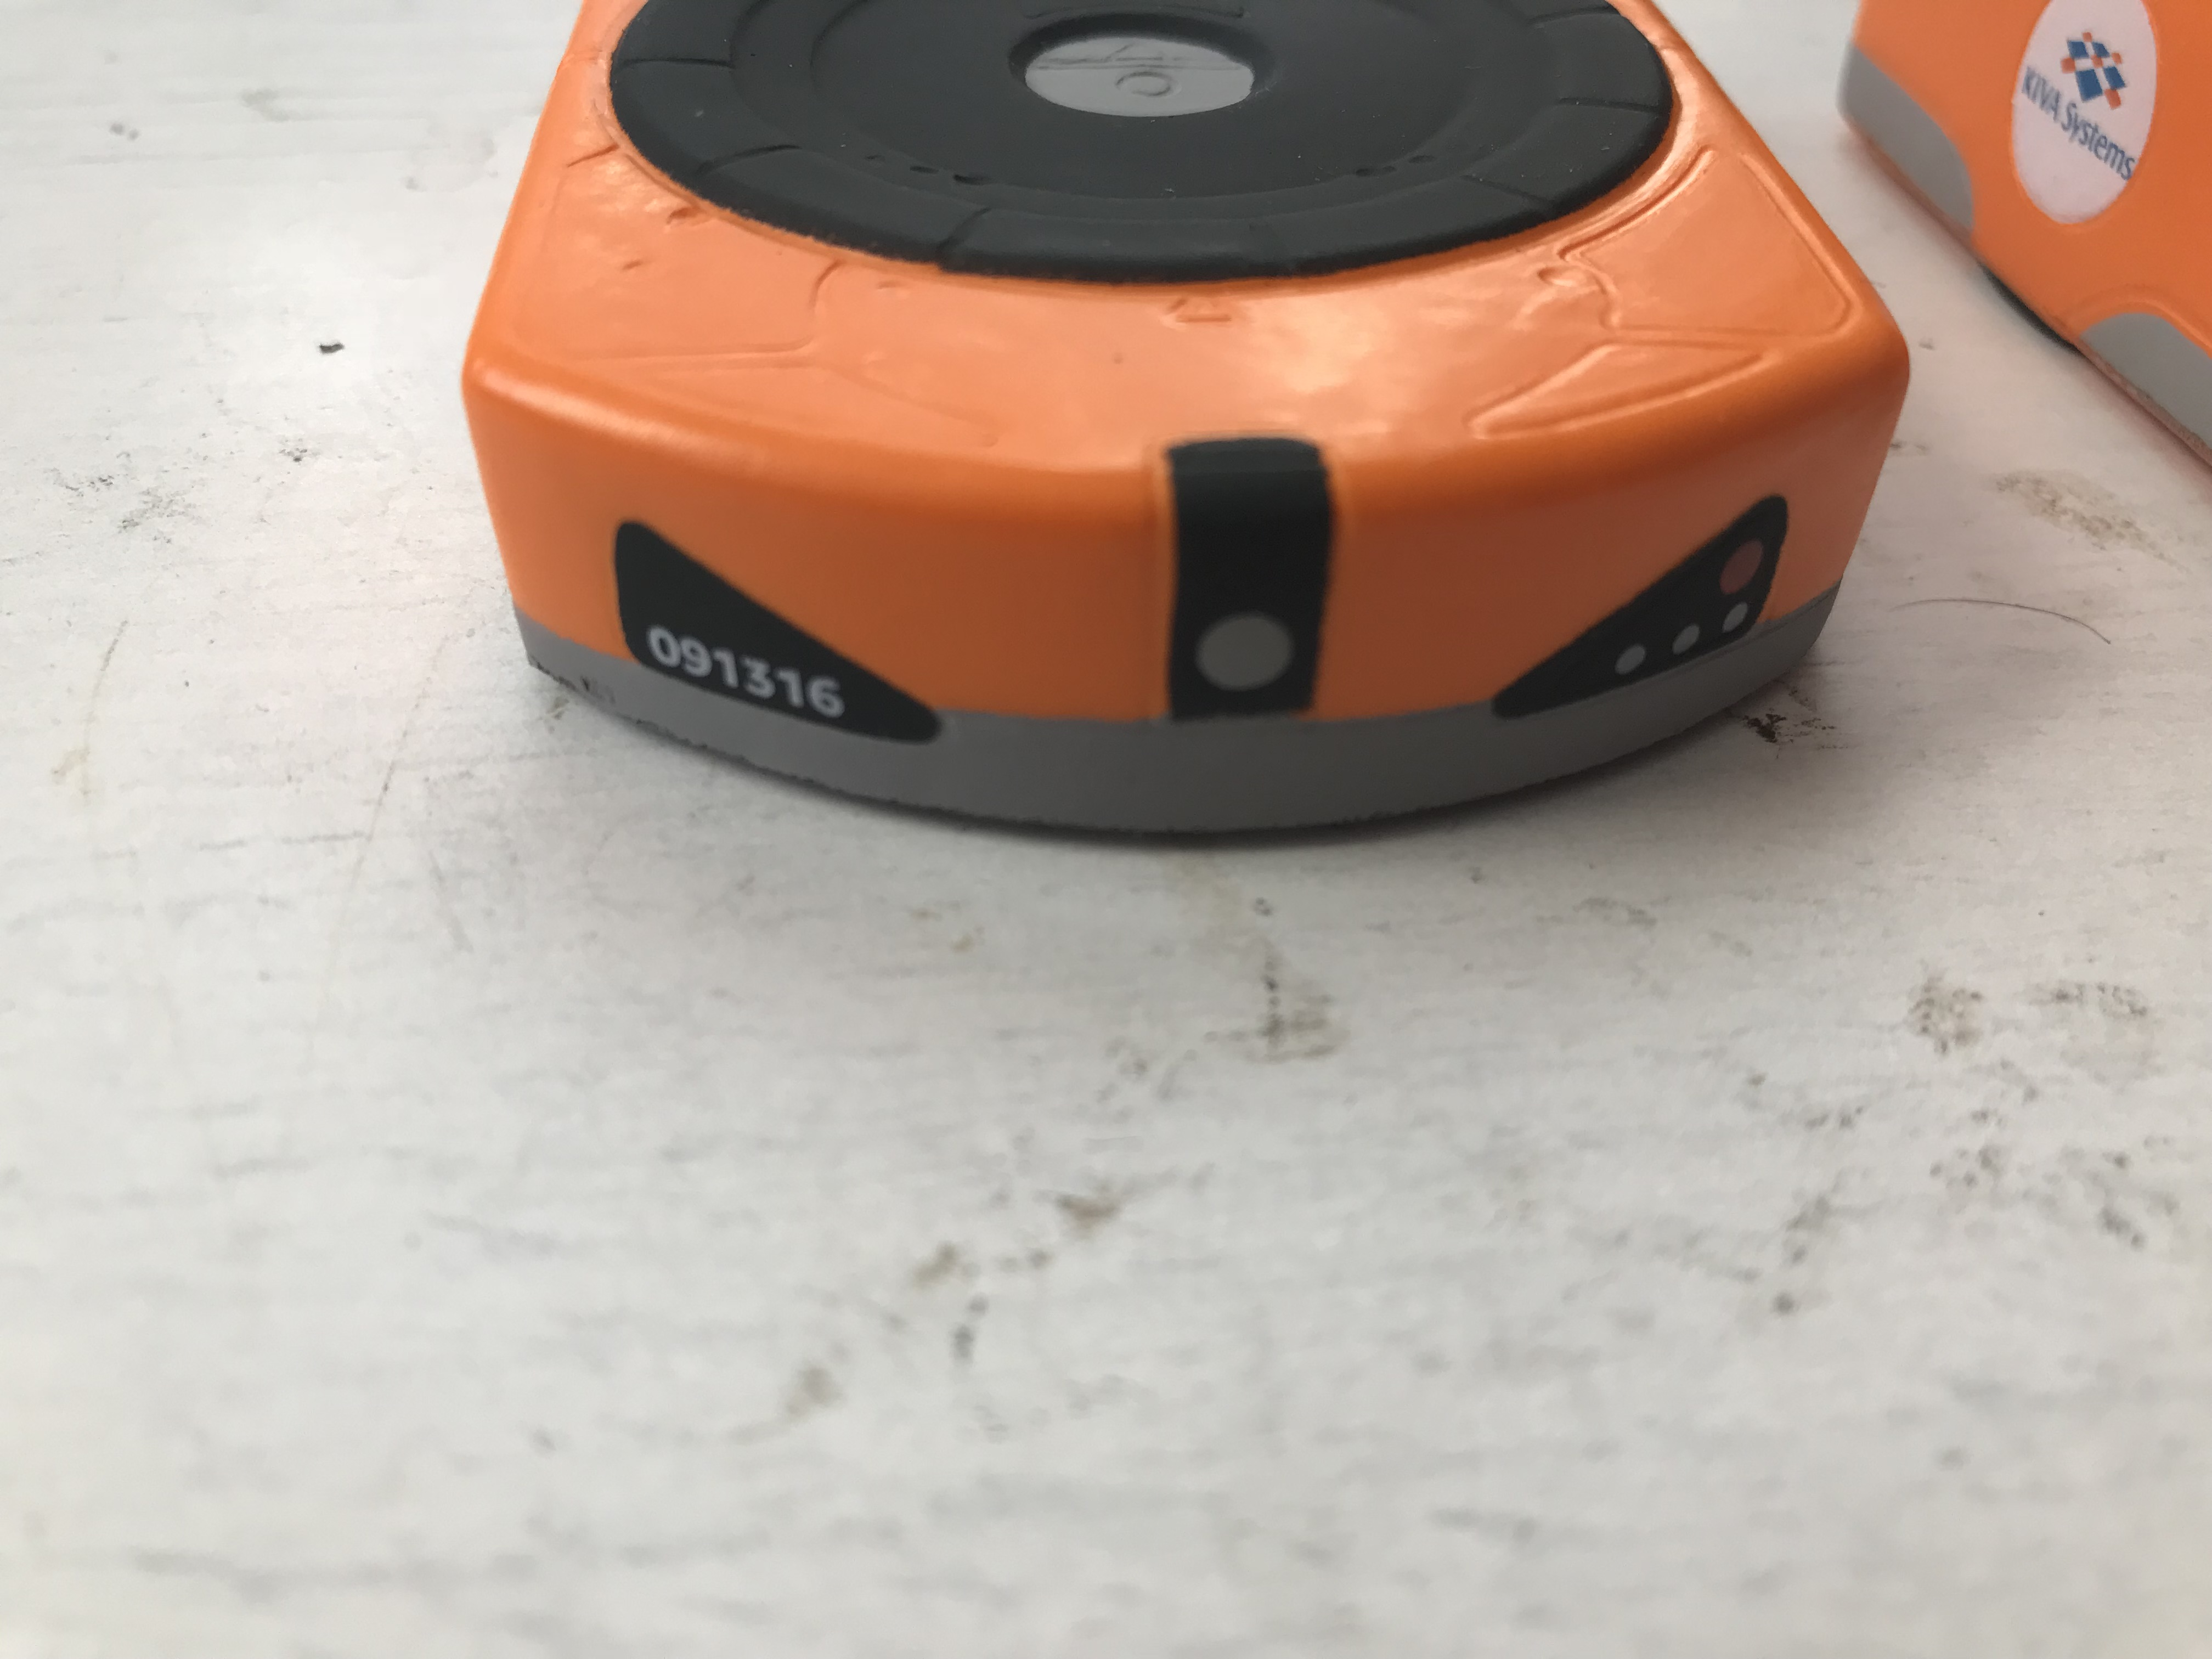amazon_bot: (420, 9, 1921, 868)
